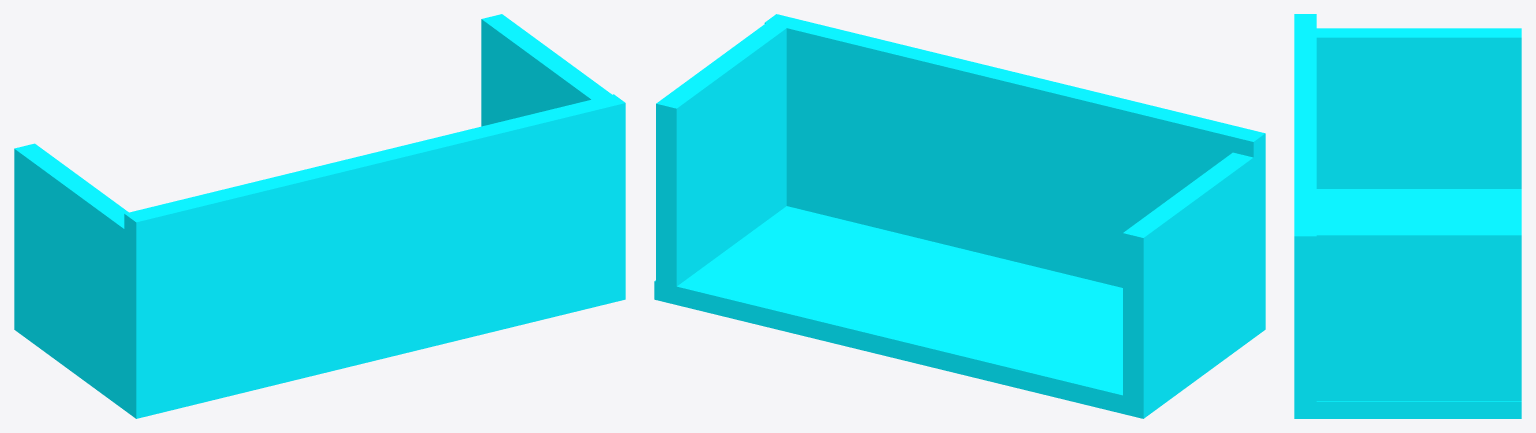
File: SM_Bld_Balcony_01_Collision.fbx
The picture shows the model from 3 angles, left to right: view 1: azimuth 30°, elevation 25°; view 2: azimuth 150°, elevation 25°; view 3: azimuth 270°, elevation 25°; orthographic projection. The views are drawn at different scales.
Parts seen in each view (by area): view 1: SM_Bld_Balcony_01_Collision; view 2: SM_Bld_Balcony_01_Collision; view 3: SM_Bld_Balcony_01_Collision.
Part boxes in pixels (<box>): SM_Bld_Balcony_01_Collision: <box>14,14,625,418</box>; SM_Bld_Balcony_01_Collision: <box>654,14,1265,418</box>; SM_Bld_Balcony_01_Collision: <box>1294,14,1521,418</box>.
Size of the model in its own units: 391 by 150 by 169.
